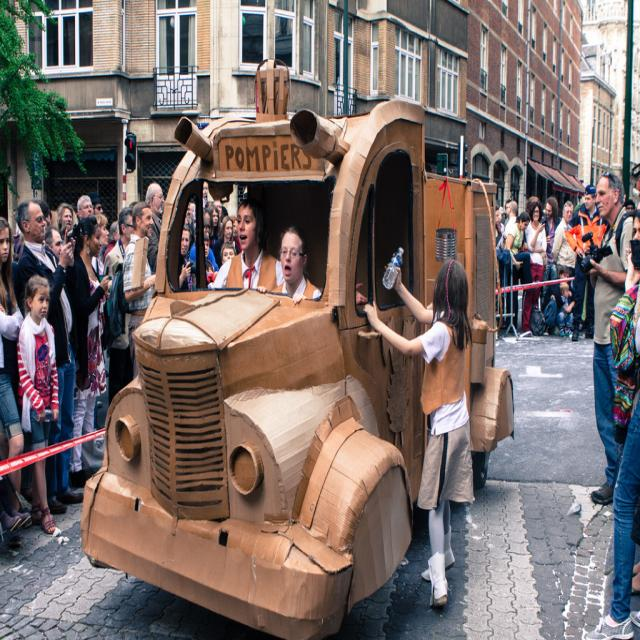car: (76, 47, 521, 638)
